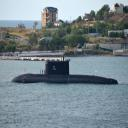submarine: (10, 46, 128, 87)
